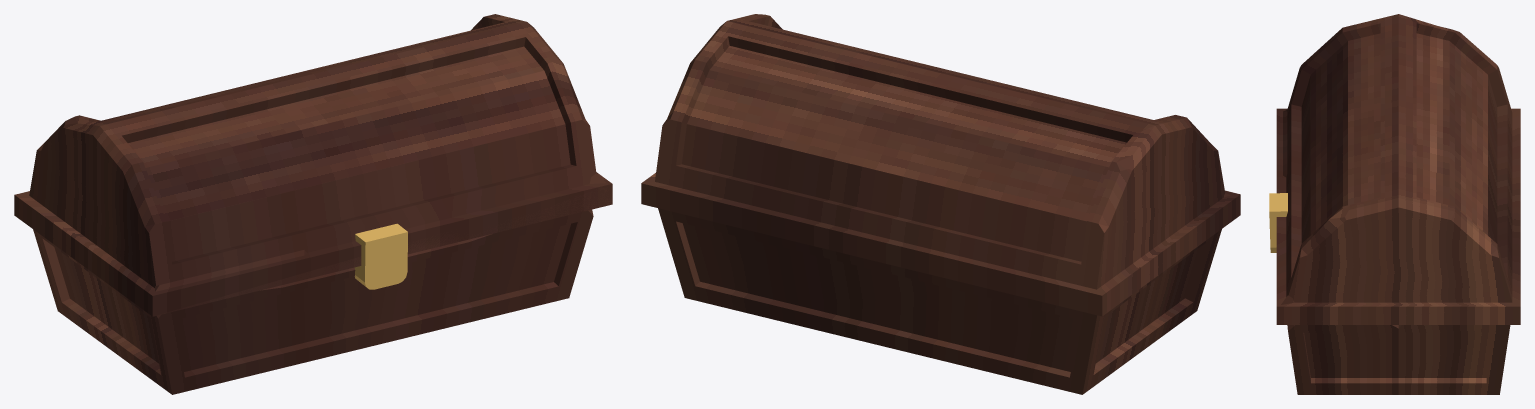
File: chest.glb
3 views of the same model, side by side, from view 1: azimuth 30°, elevation 25°; view 2: azimuth 150°, elevation 25°; view 3: azimuth 270°, elevation 25° (orthographic). The views are drawn at different scales.
Parts seen in each view (by area): view 1: lid, body, lock; view 2: lid, body; view 3: lid, body, lock.
Boxes of the visible parts, <box> form: lid: <box>14,14,612,316</box>; body: <box>33,209,593,394</box>; lock: <box>354,223,407,289</box>; lid: <box>641,14,1240,316</box>; body: <box>658,208,1221,394</box>; lid: <box>1276,14,1520,324</box>; body: <box>1287,325,1510,394</box>; lock: <box>1269,193,1287,252</box>.
Bounding box in the file's own units: 2.09 × 1 × 1.12.
2 materials, 1 textured.
